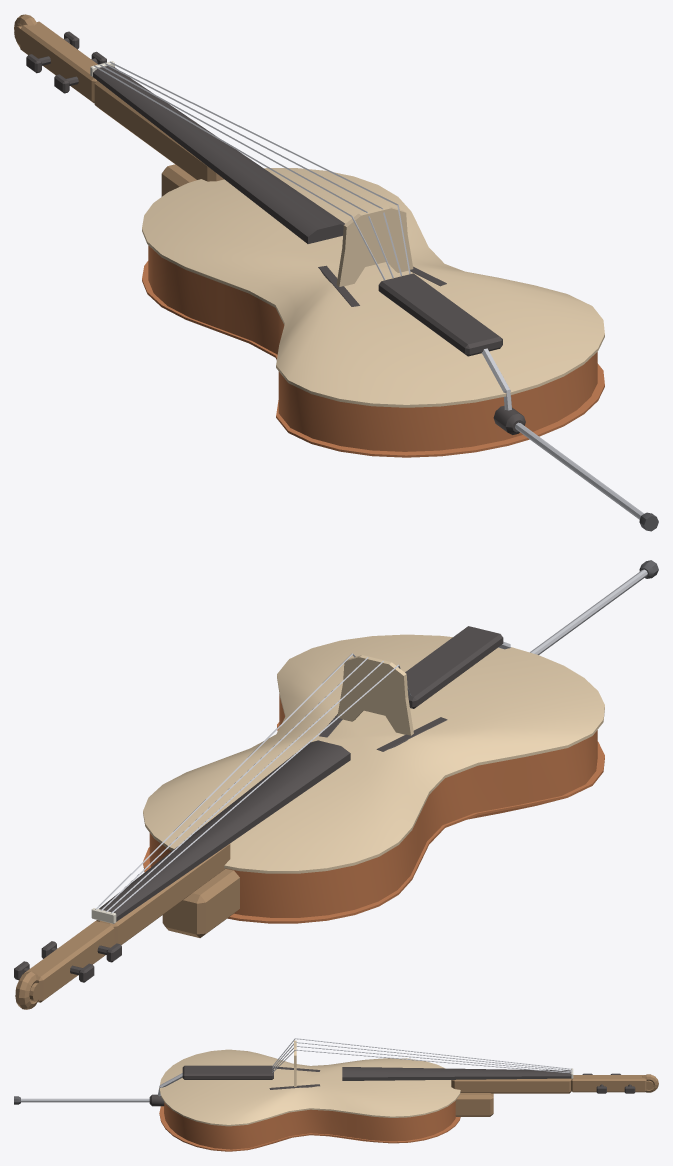
The model's file is orchestra-and-band-instruments-cello-8a3a4278__39282.glb.
The picture shows the model from 3 angles, top to bottom: view 1: azimuth 30°, elevation 25°; view 2: azimuth 150°, elevation 25°; view 3: azimuth 270°, elevation 25°; orthographic projection. The views are drawn at different scales.
Parts seen in each view (by area): view 1: cello; view 2: cello; view 3: cello.
Part boxes in pixels (left/top/right/bottom): cello: left=14, top=14, right=658, bottom=531; cello: left=14, top=560, right=658, bottom=1009; cello: left=14, top=1038, right=658, bottom=1151.
Size of the model in its own units: 0.4495 by 0.2192 by 1.62.
